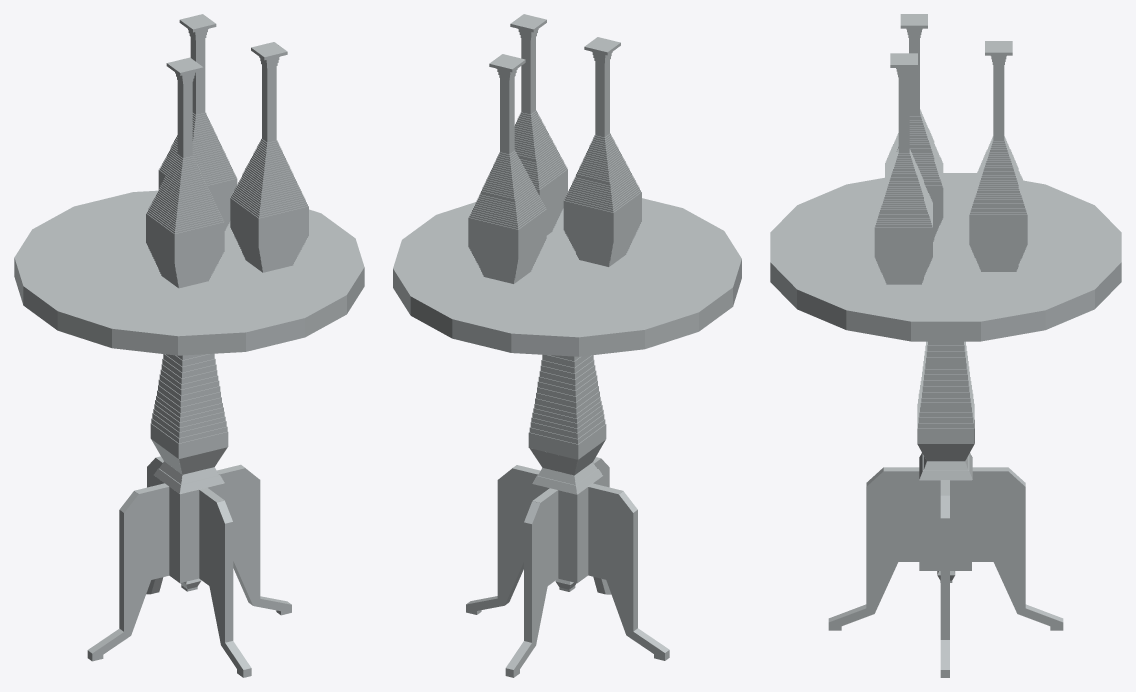
Rendered from metal_table.obj.
3 views of the same model, side by side, from view 1: azimuth 30°, elevation 25°; view 2: azimuth 150°, elevation 25°; view 3: azimuth 270°, elevation 25° (orthographic). The views are drawn at different scales.
Parts seen in each view (by area): view 1: hexadecagon.005, hexadecagon.003, hexadecagon.010, hexadecagon.004, hexadecagon.006, hexadecagon.011, hexadecagon.008, cube.088, cube.098, hexadecagon.007, hexadecagon.012, cube.319 (+21 smaller); view 2: hexadecagon.009, hexadecagon.002, hexadecagon.010, hexadecagon, hexadecagon.000, hexadecagon.001, hexadecagon.004, hexadecagon.005, cube.088, hexadecagon.003, cube.098, cube.260 (+21 smaller); view 3: hexadecagon.012, hexadecagon, hexadecagon.013, cube.088, hexadecagon.014, cube.116, cube.107, hexadecagon.008, hexadecagon.006, hexadecagon.007, hexadecagon.001, hexadecagon.000 (+21 smaller).
Part boxes in pixels (x1,y1,x2,y2): hexadecagon.005: [158, 274, 245, 355]; hexadecagon.003: [15, 229, 160, 273]; hexadecagon.010: [23, 270, 170, 330]; hexadecagon.004: [112, 286, 197, 355]; hexadecagon.006: [186, 282, 304, 351]; hexadecagon.011: [57, 270, 166, 347]; hexadecagon.008: [210, 251, 364, 313]; cube.088: [154, 475, 225, 582]; cube.098: [134, 483, 169, 582]; hexadecagon.007: [231, 277, 346, 337]; hexadecagon.012: [212, 238, 364, 275]; cube.319: [146, 213, 224, 263]; hexadecagon.009: [542, 264, 698, 348]; hexadecagon.002: [511, 262, 590, 356]; hexadecagon.010: [592, 262, 732, 331]; hexadecagon: [393, 250, 573, 314]; hexadecagon.000: [410, 264, 584, 338]; hexadecagon.001: [452, 284, 577, 352]; hexadecagon.004: [564, 231, 741, 277]; hexadecagon.005: [549, 208, 723, 269]; cube.088: [532, 476, 603, 583]; hexadecagon.003: [565, 262, 644, 356]; cube.098: [588, 483, 622, 582]; cube.260: [468, 209, 546, 259]; hexadecagon.012: [846, 246, 968, 341]; hexadecagon: [941, 246, 1094, 329]; hexadecagon.013: [911, 262, 980, 341]; cube.088: [919, 480, 971, 570]; hexadecagon.014: [934, 246, 1045, 341]; cube.116: [883, 467, 919, 561]; cube.107: [972, 467, 1008, 561]; hexadecagon.008: [797, 247, 941, 329]; hexadecagon.006: [770, 232, 943, 261]; hexadecagon.007: [770, 244, 882, 308]; hexadecagon.001: [948, 232, 1121, 261]; hexadecagon.000: [949, 235, 1121, 308].
Size of the model in its own units: 1 by 1.88 by 1.
